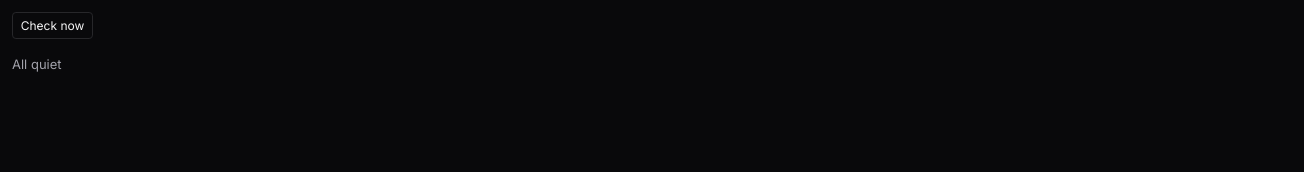
Scenario: AlertsView › test check now scans and shows the new list
The image size is (1304, 172).
Check: the text "All quiet" is shown, box [12,56,62,72]
Click the button "Check now": (53, 26) [12,12,93,39]
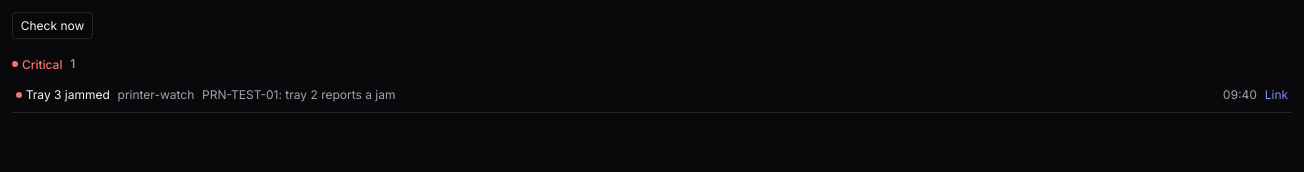
Check: the button "Tray 3 jammed" is shown, box [26,85,110,104]
Check: the text "All quiet" is gone
